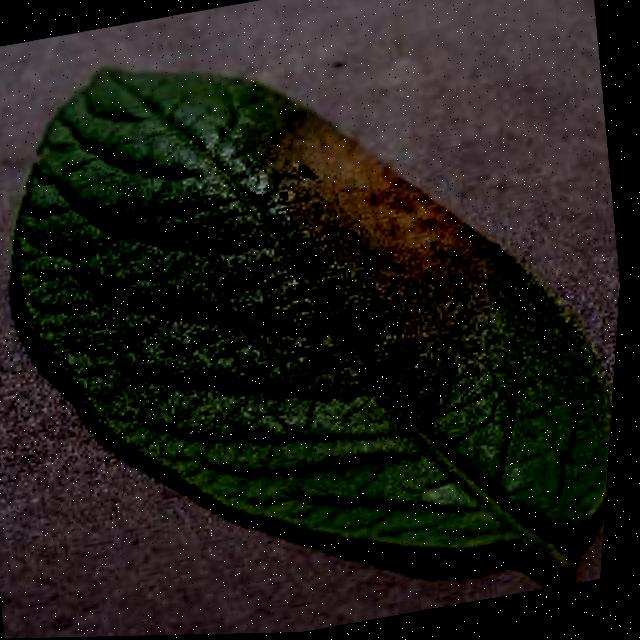Late_blight: (219, 52, 564, 418)
